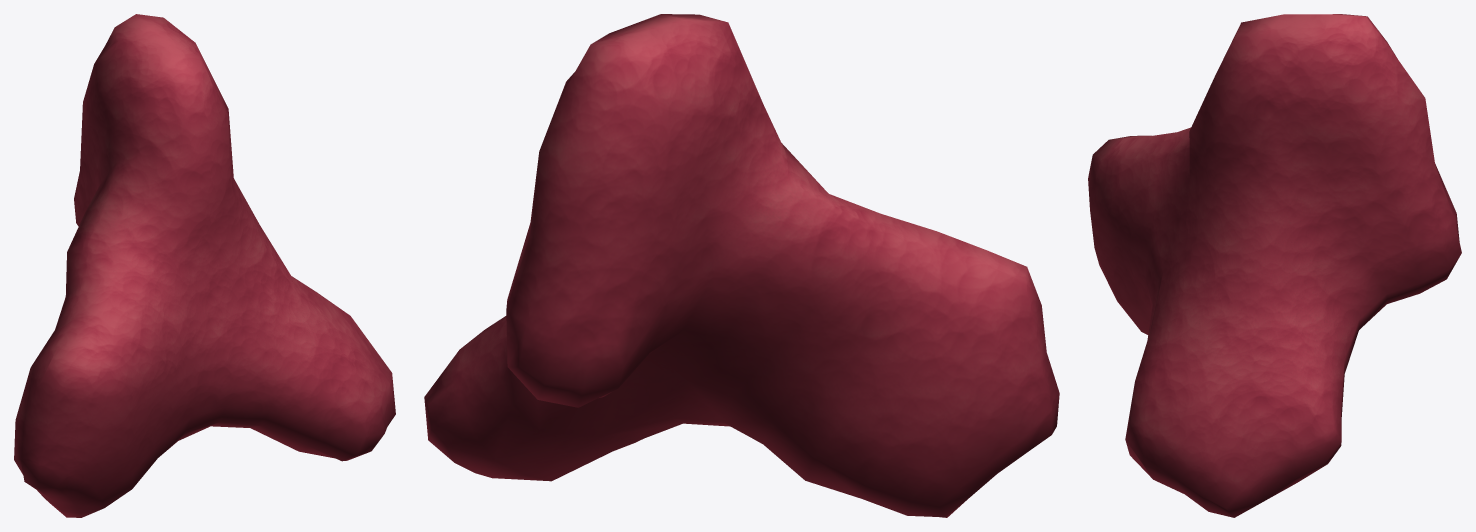
Rendered from Idle_Perampanel.fbx.
3 renders of one model, left to right at view 1: azimuth 30°, elevation 25°; view 2: azimuth 150°, elevation 25°; view 3: azimuth 270°, elevation 25°, orthographic. The views are drawn at different scales.
Parts seen in each view (by area): view 1: Perampanel_SOLO; view 2: Perampanel_SOLO; view 3: Perampanel_SOLO.
Part boxes in pixels (x1,y1,x2,y2): Perampanel_SOLO: (14, 14, 395, 517); Perampanel_SOLO: (424, 14, 1059, 517); Perampanel_SOLO: (1088, 14, 1461, 517).
Bounding box in the file's own units: 10 × 9.51 × 7.68.
Materials: 1 (1 with a texture image).
